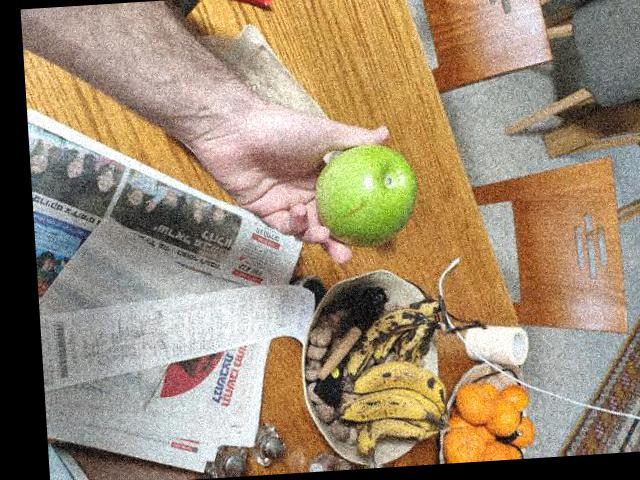apple: (307, 139, 430, 253)
